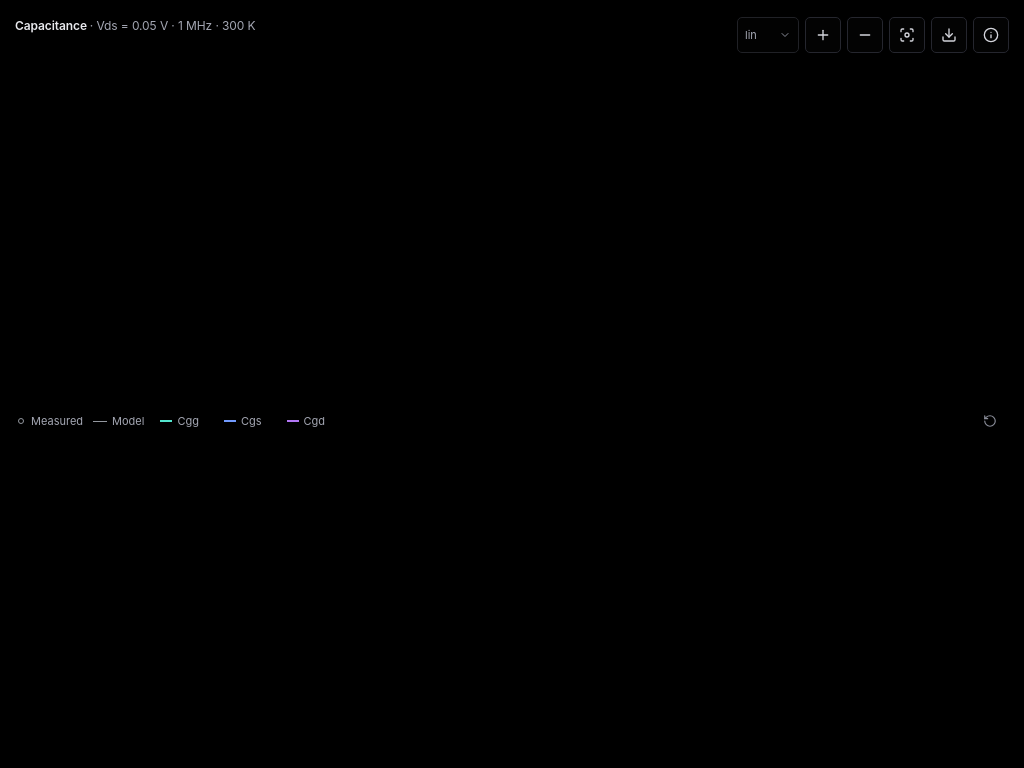
Test case: counts supplied measurement arrays and uses short scale choices while retaining axis behavior
This screenshot has width=1024, height=768.
Expected: the heading "Capacitance · Vds = 0.05 V · 1 MHz · 300 K" is shown, [15,17,256,35]
Click the dropdown named "Chart scale". click: (768, 35)
box: [737,17,799,53]
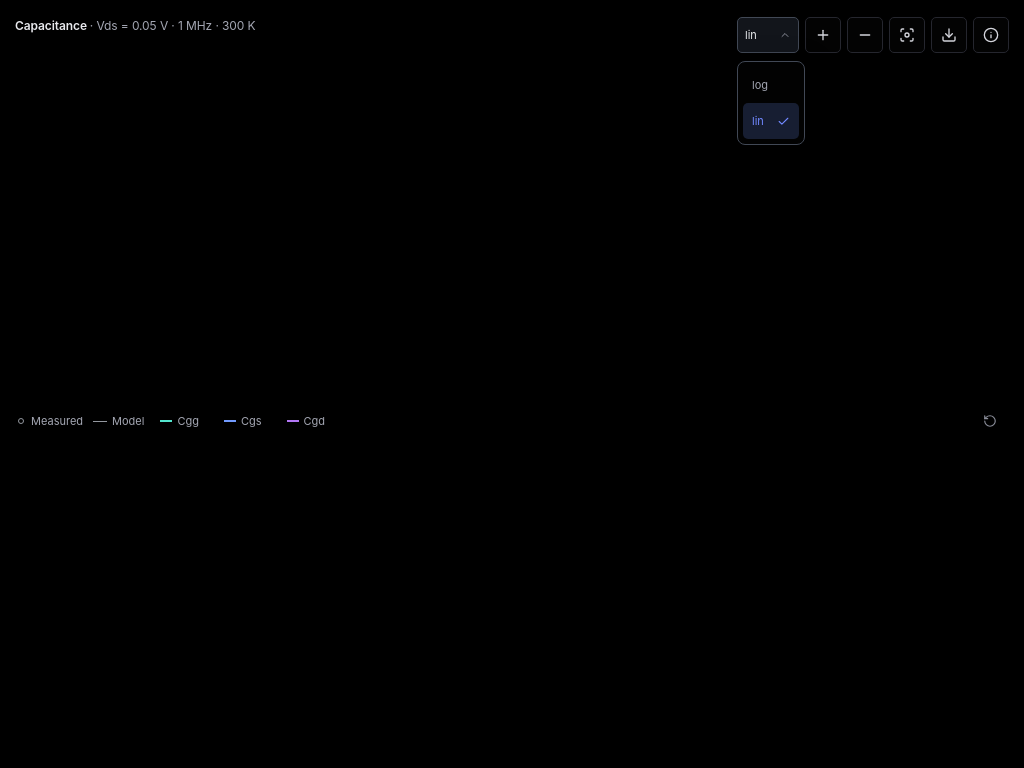
Click the option "log". click: (760, 85)
box: [752,78,768,92]
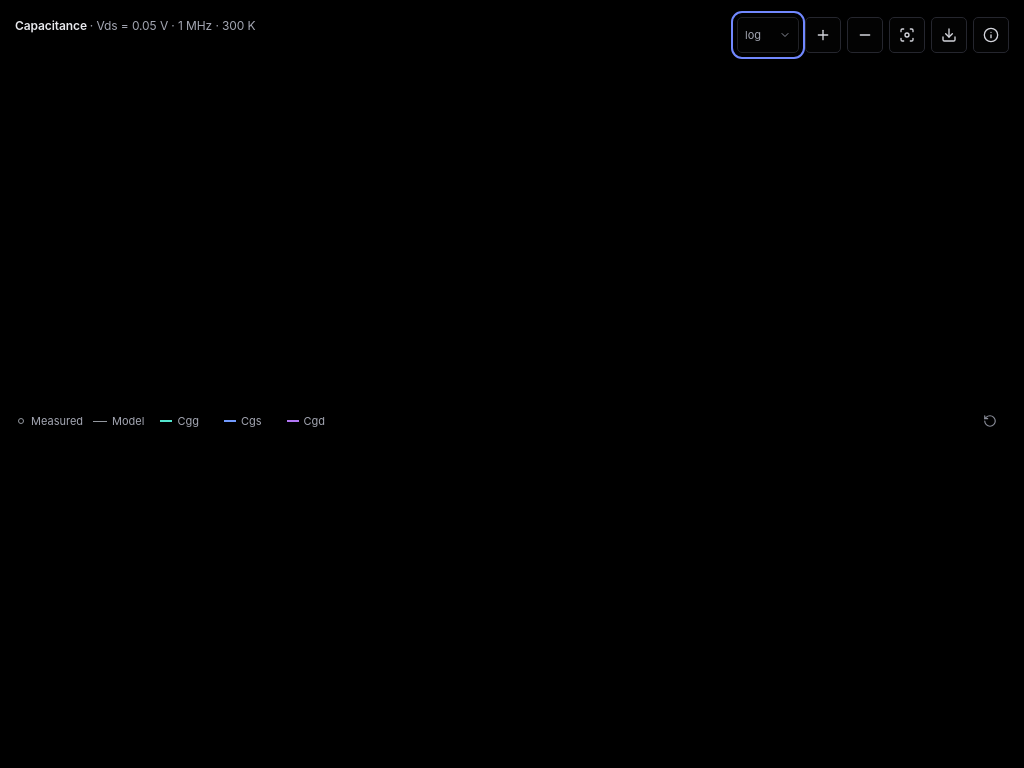
Now the dropdown named "Chart scale" reads "log", box [737,17,799,53]
Click the button "Cgd". click: (306, 421)
box: [280,403,331,439]
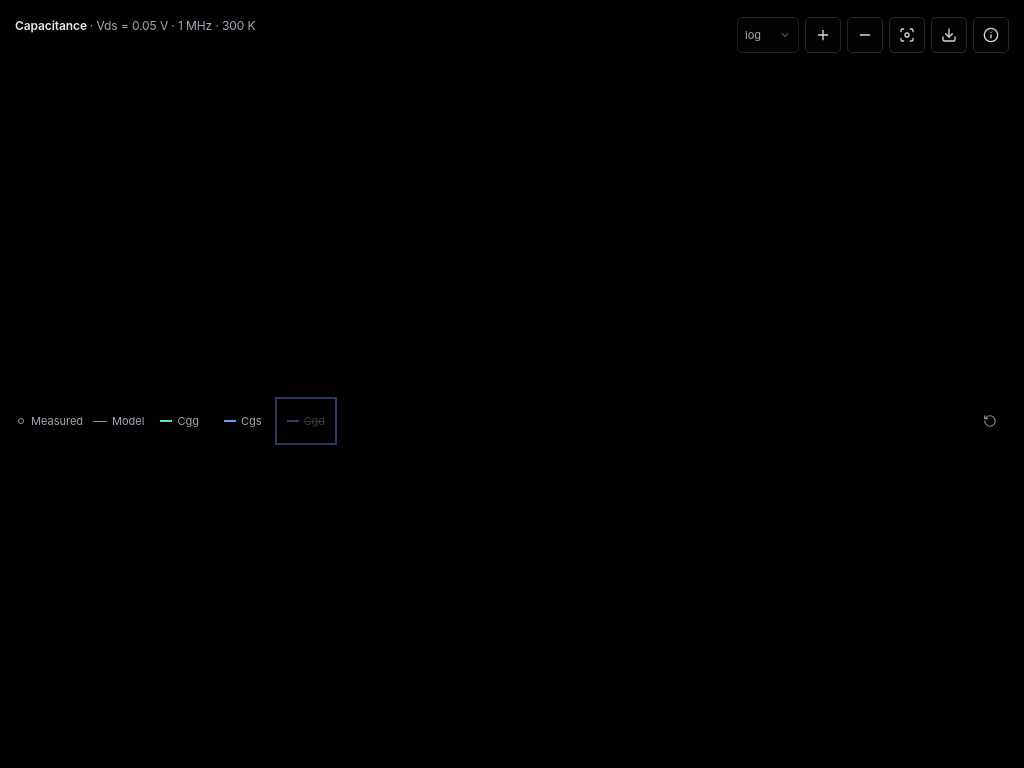
Click the button named "Plot information". click: (991, 35)
box: [973,17,1009,53]
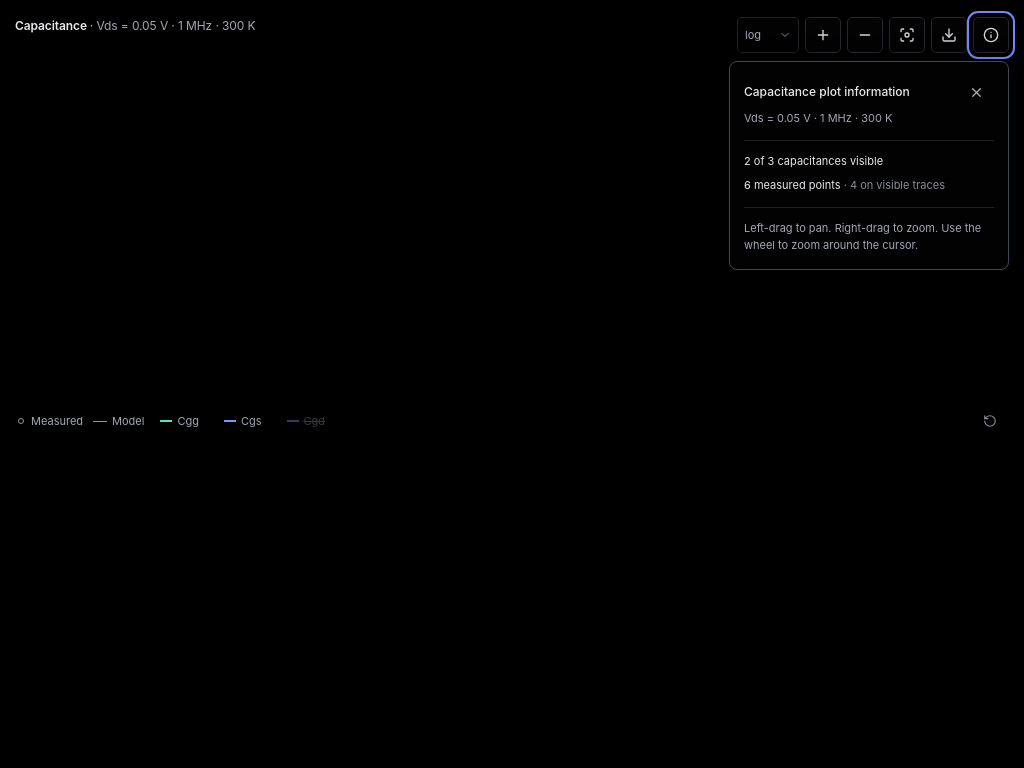
Now the text "2 of 3 capacitances visible" is shown, box [744,154,883,168]
Now the text "6 measured points · 4 on visible traces" is shown, box [744,178,945,192]
